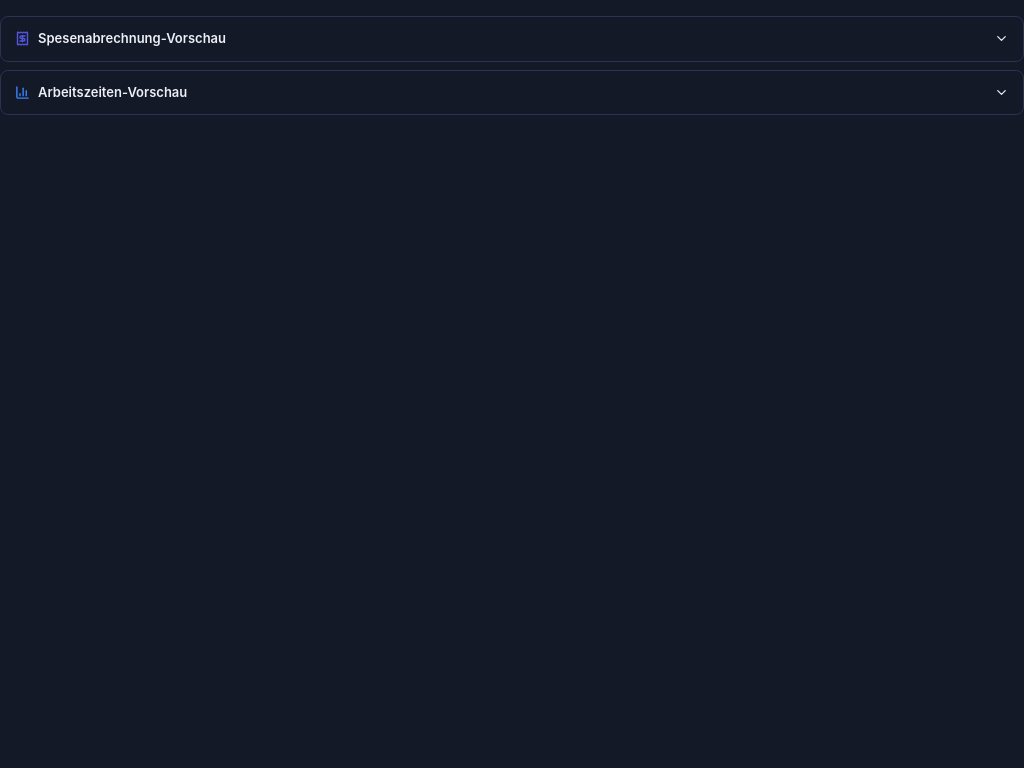
Test: MonthPreviews › klappt die Arbeitszeiten-Vorschau beim Klick auf
Click the button "Arbeitszeiten-Vorschau" at (113, 92), box left=0, top=70, right=1023, bottom=115
(page scrolled)
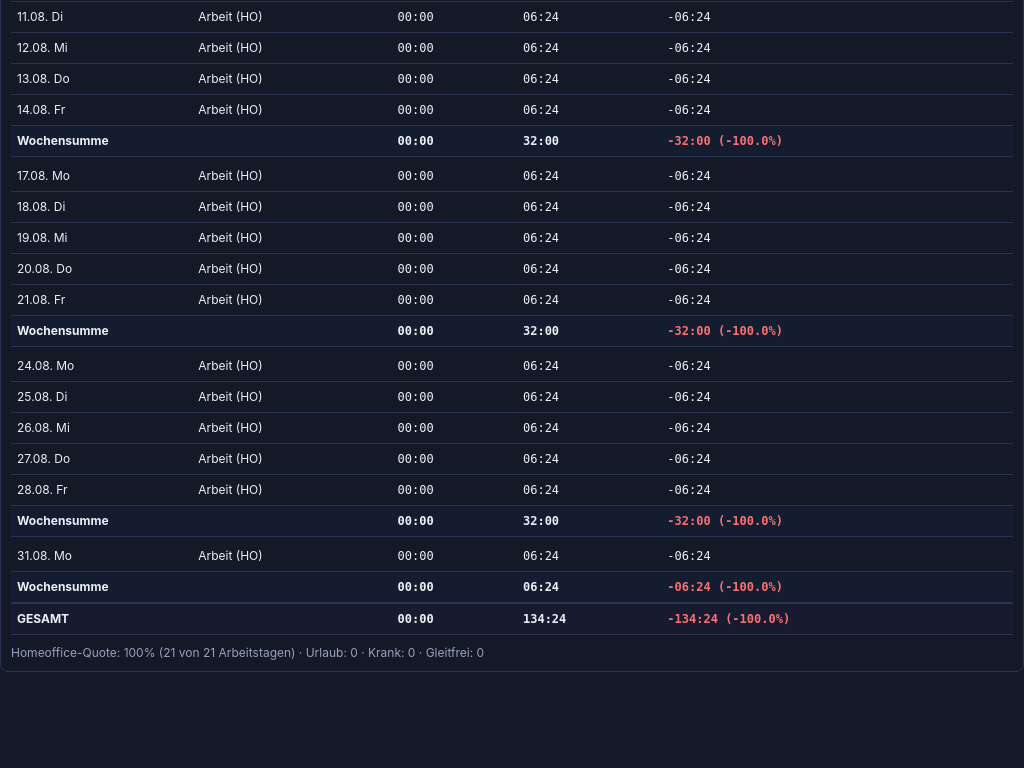
Expected: the text "GESAMT" is shown, left=11, top=602, right=392, bottom=634
